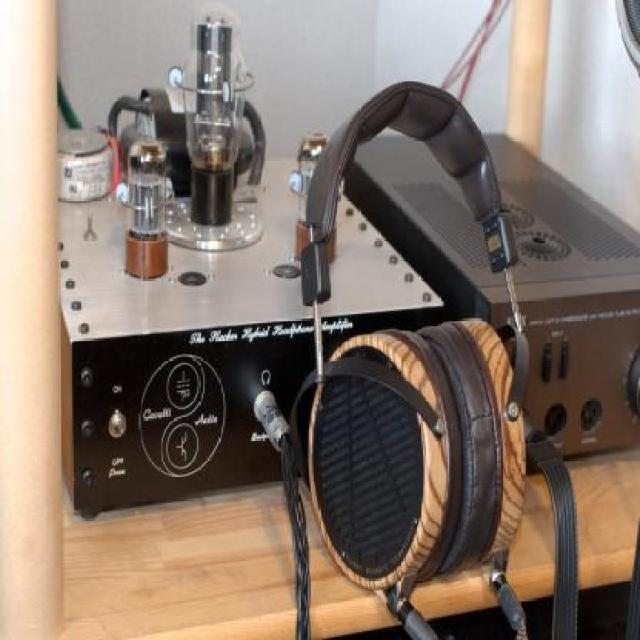earphone: (288, 55, 558, 633)
